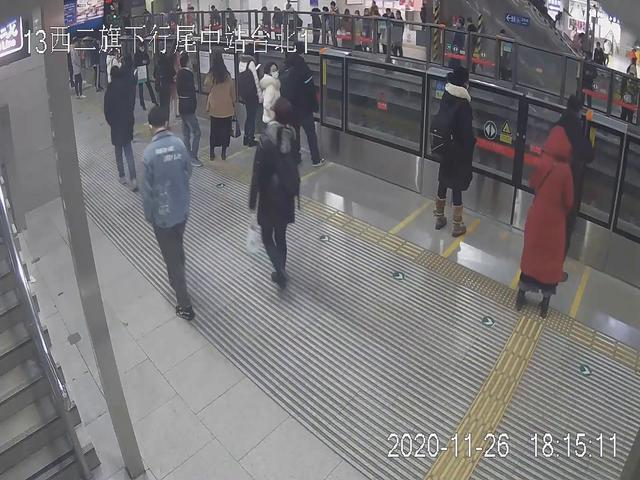person: (140, 104, 201, 326), (523, 123, 571, 317), (253, 98, 295, 287), (551, 92, 595, 270), (434, 68, 475, 240), (282, 38, 326, 169), (101, 66, 142, 195), (207, 50, 239, 157), (177, 53, 206, 159), (256, 60, 280, 157)
